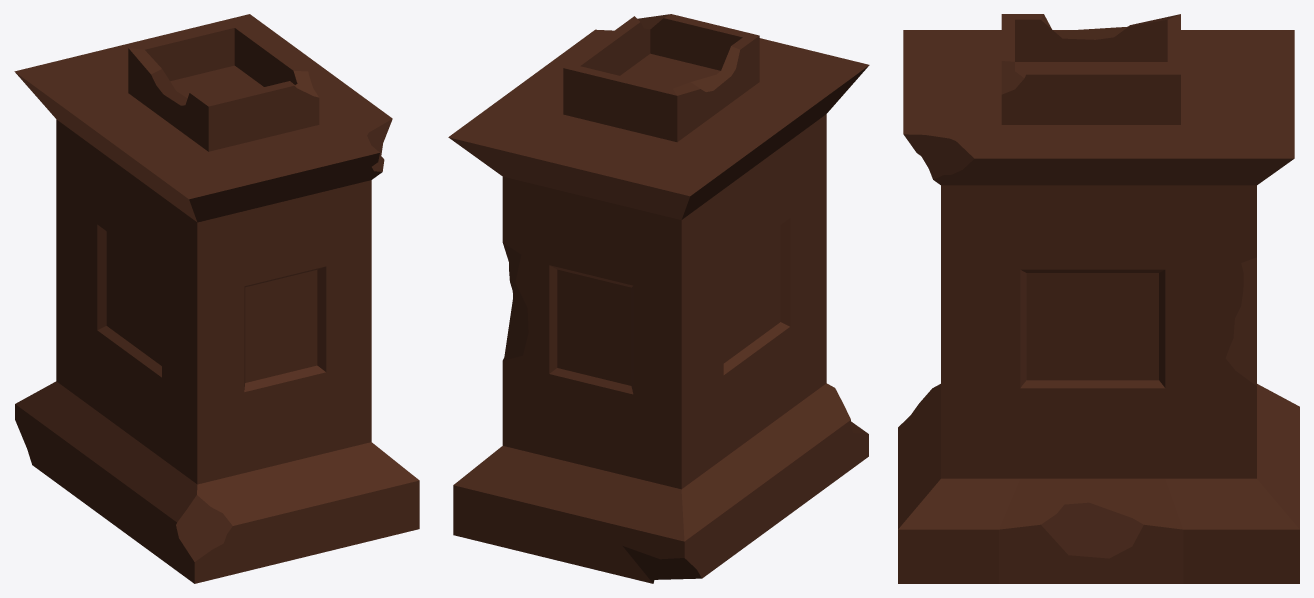
File: Tulsi.fbx
3 views of the same model, side by side, from view 1: azimuth 30°, elevation 25°; view 2: azimuth 150°, elevation 25°; view 3: azimuth 270°, elevation 25° (orthographic). The views are drawn at different scales.
Parts seen in each view (by area): view 1: Tulsi; view 2: Tulsi; view 3: Tulsi.
Boxes of the visible parts, x1,y1,x2,y2 form: Tulsi: (14, 14, 419, 583); Tulsi: (448, 14, 869, 583); Tulsi: (898, 14, 1299, 583).
Bounding box in the file's own units: 71.13 × 124 × 93.93.
